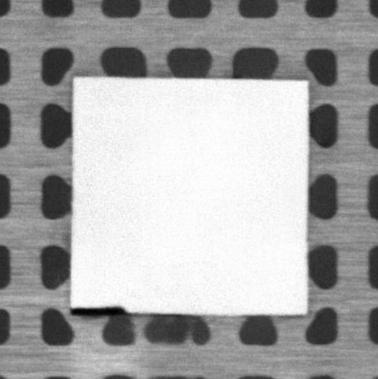DIE_BROKEN: (68, 304, 129, 316)
